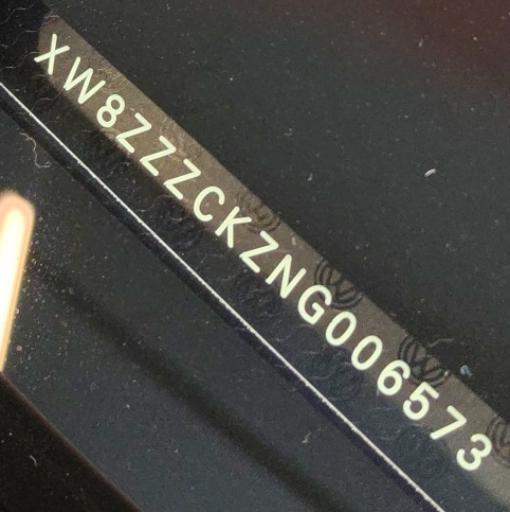letter: (109, 107, 158, 153), (263, 254, 307, 300), (62, 58, 108, 102), (161, 158, 205, 200), (134, 135, 176, 177), (239, 230, 281, 272), (213, 204, 251, 248), (36, 33, 72, 75), (401, 382, 440, 420), (94, 90, 131, 130), (295, 284, 332, 324), (374, 357, 411, 397), (428, 406, 466, 444), (190, 182, 226, 222), (323, 310, 357, 348), (458, 432, 492, 470), (350, 334, 383, 370)
